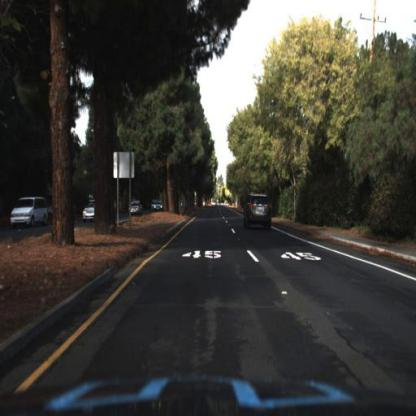car: (11, 197, 50, 231), (243, 191, 274, 227), (81, 194, 102, 231), (127, 199, 146, 217), (153, 200, 165, 216)
